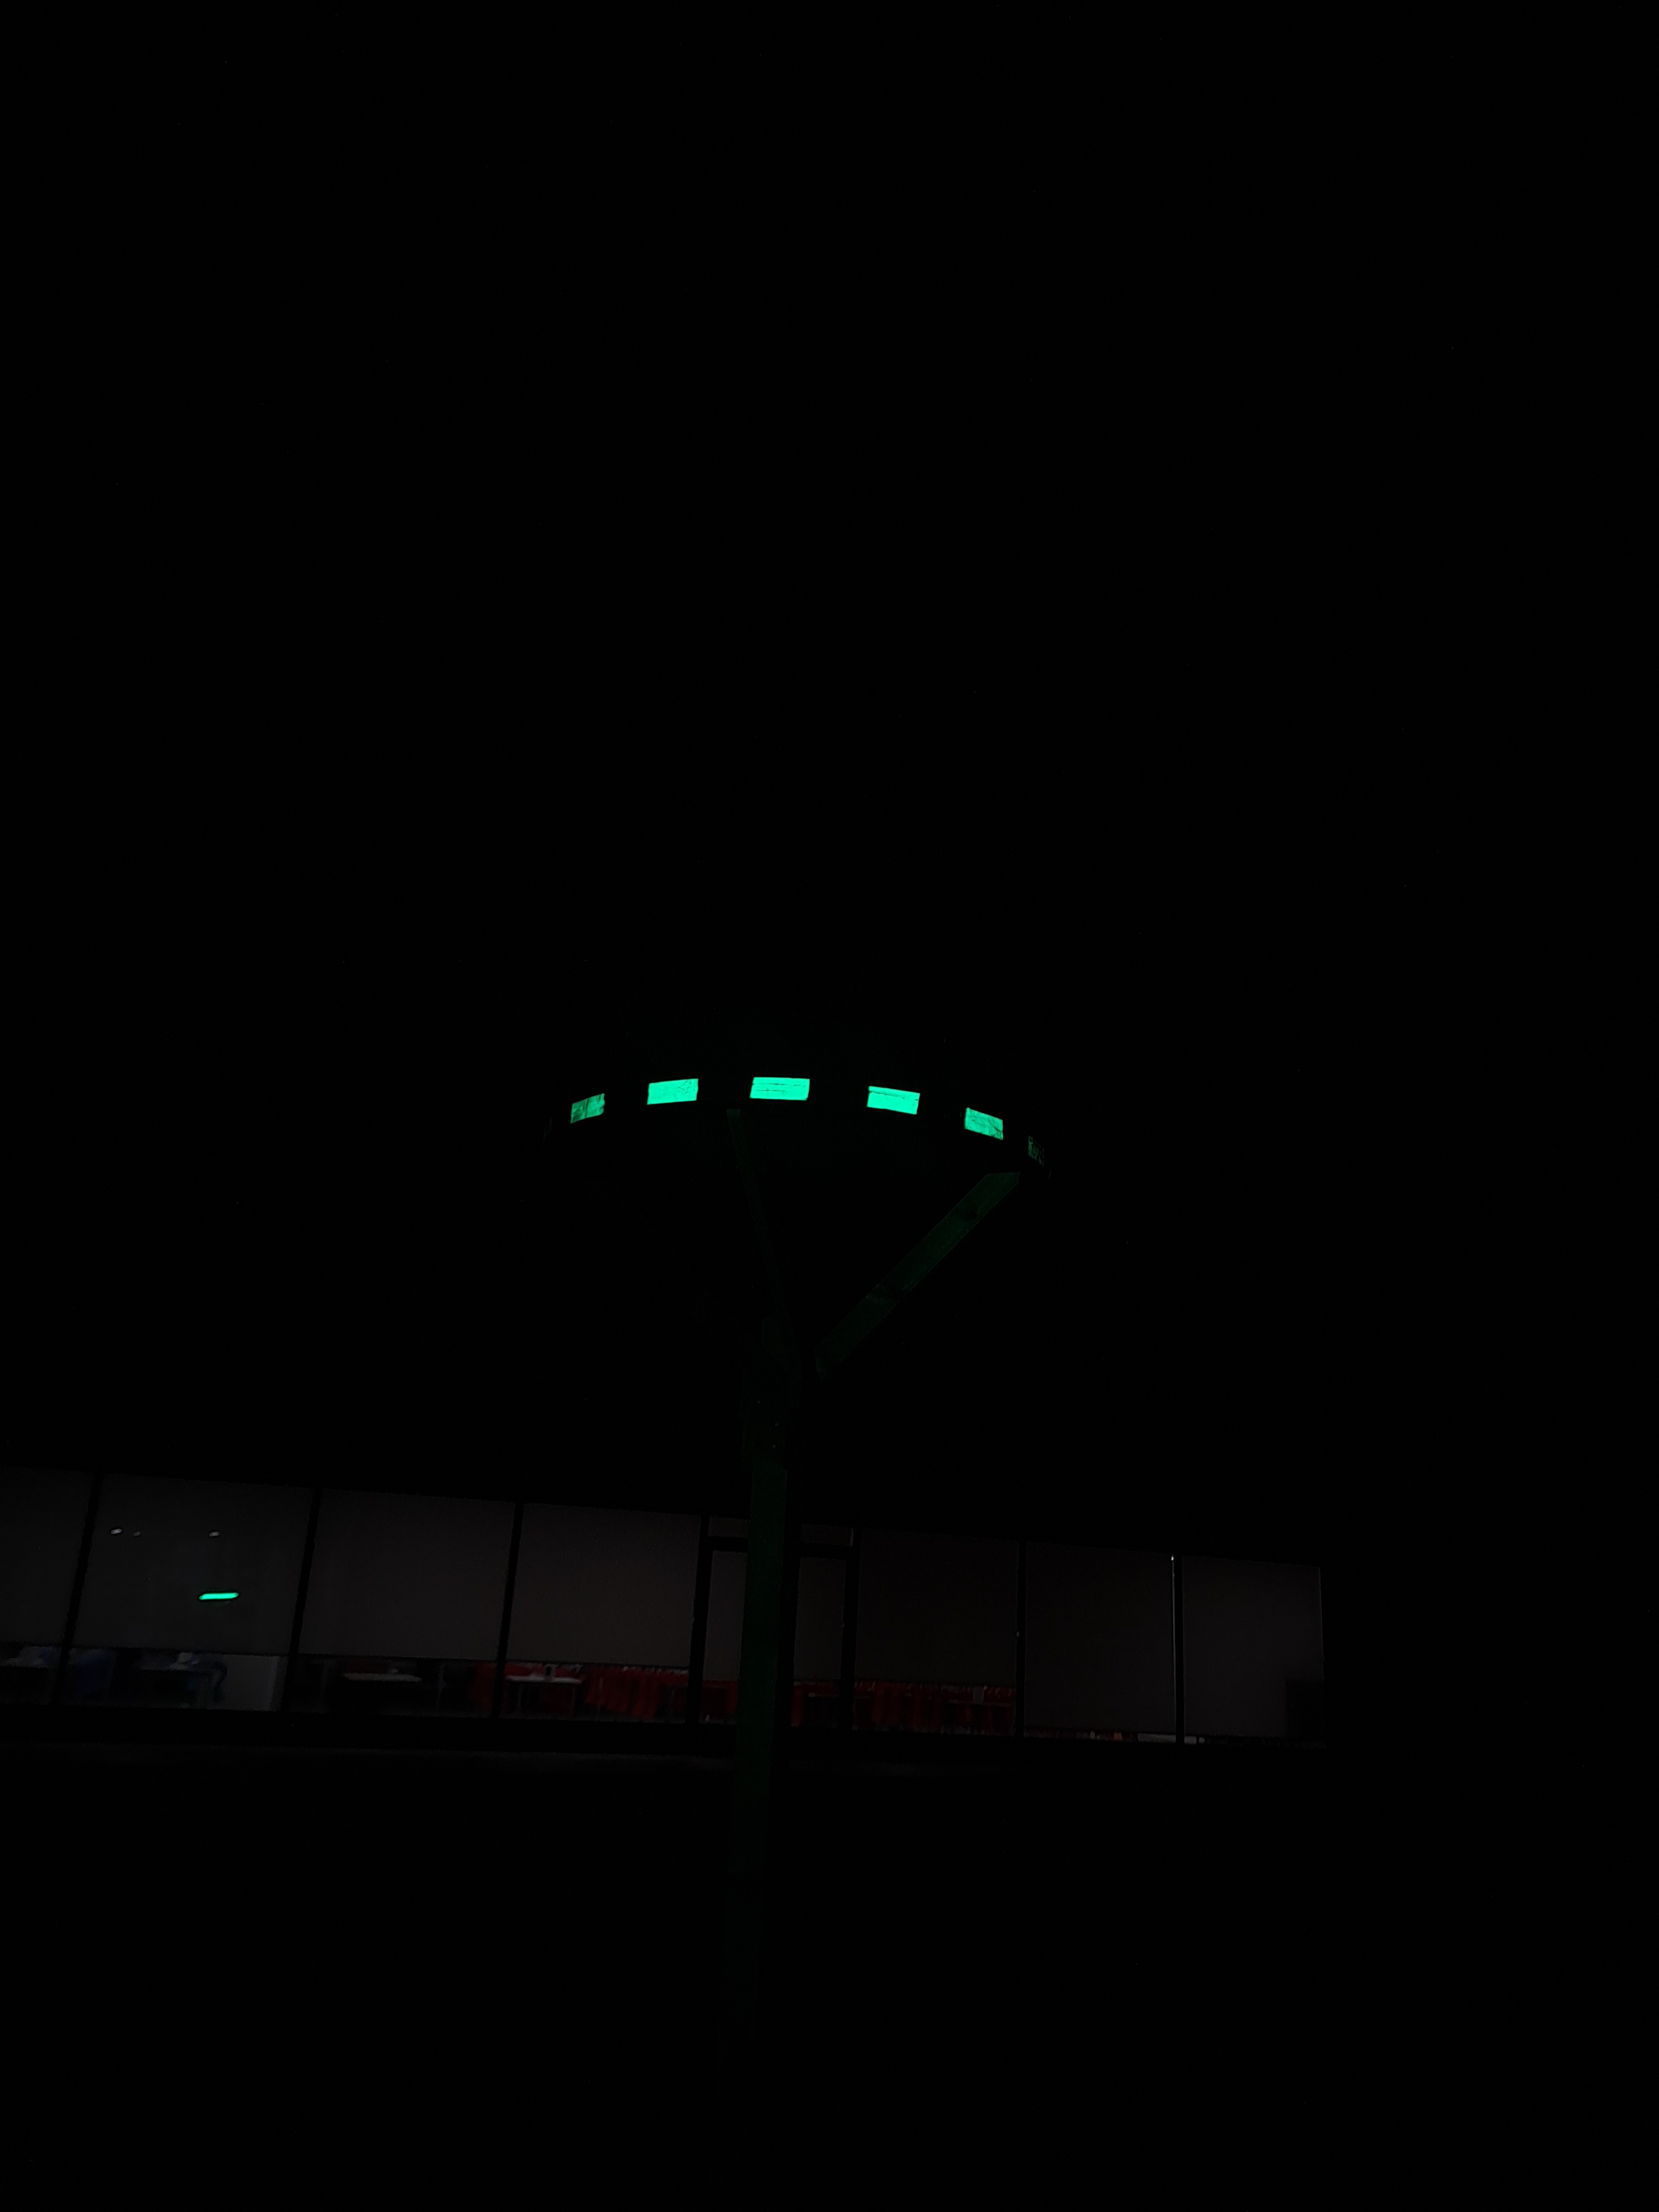hoop: (556, 1073, 1011, 1150)
